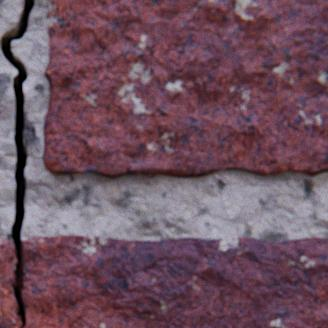brick: (43, 0, 327, 178)
broken_brick: (22, 236, 327, 327), (0, 239, 21, 327)
crack: (0, 0, 35, 327)
